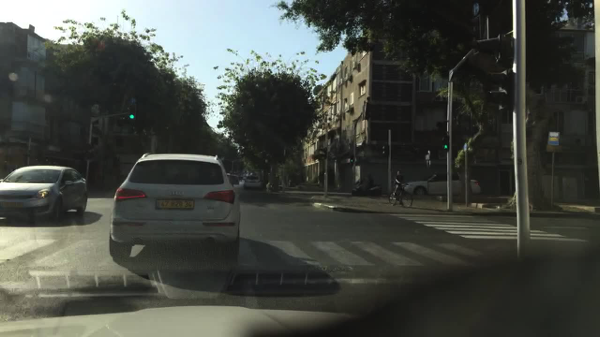bike: (388, 191, 413, 207)
car: (108, 154, 242, 264), (0, 165, 89, 222), (399, 173, 482, 197), (243, 174, 263, 189)
rider: (393, 170, 403, 197)
traffic light: (127, 103, 136, 122), (442, 134, 447, 152)
traffic sign: (548, 131, 559, 145), (545, 145, 560, 152)
